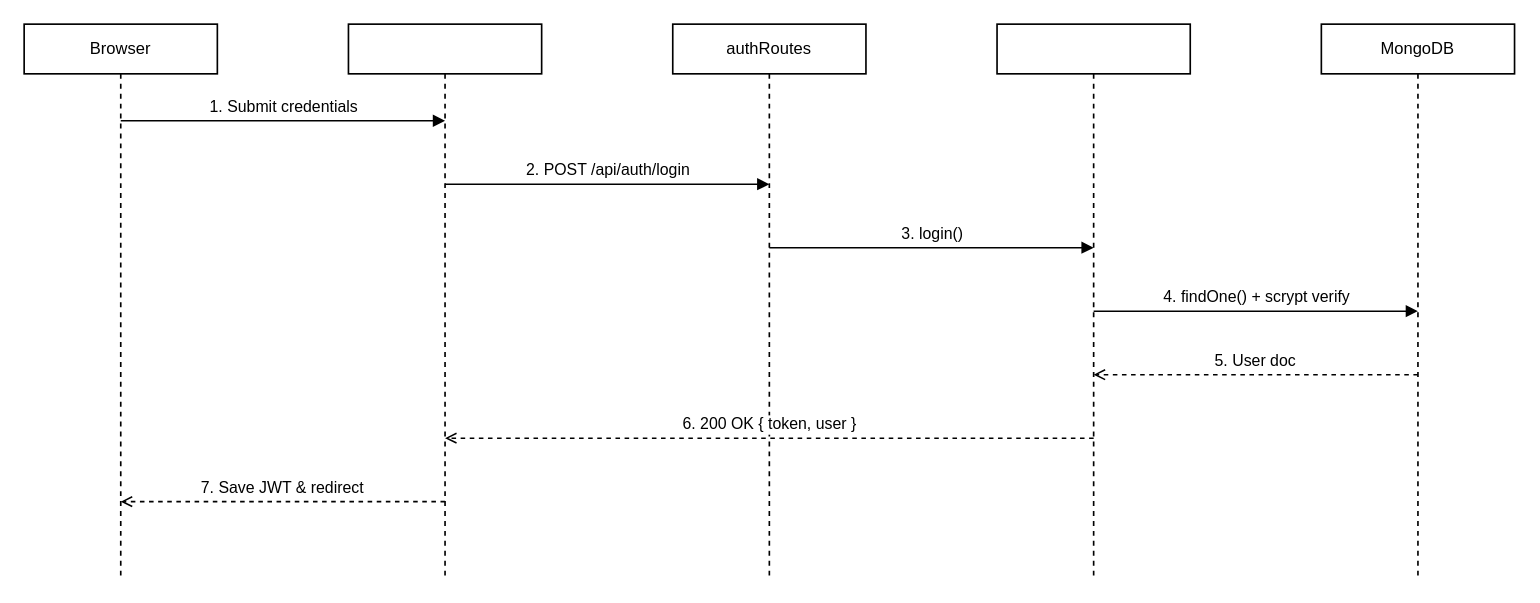
This 1540x603 diagram has some shape labels left out. The box of each missing label's shape, as (x1, y1, x2, y2) in pixels:
authController: (996, 23, 1190, 578)
AuthPage: (347, 23, 542, 578)
